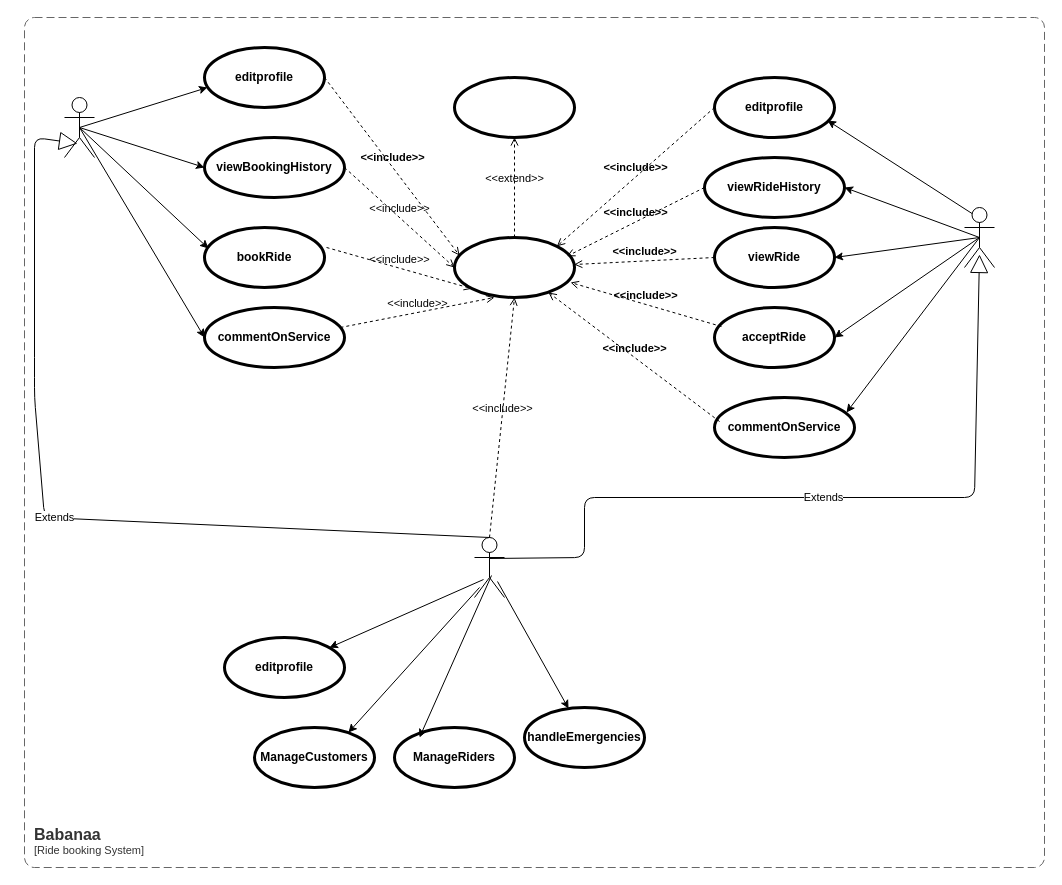
This 1062x885 diagram has some shape labels left out. Each missing label, with the box of its shape:
Admin: (474, 536, 504, 598)
BikeRider: (964, 206, 994, 268)
Client: (64, 96, 94, 158)
login: (452, 236, 576, 298)
register: (452, 76, 576, 138)
